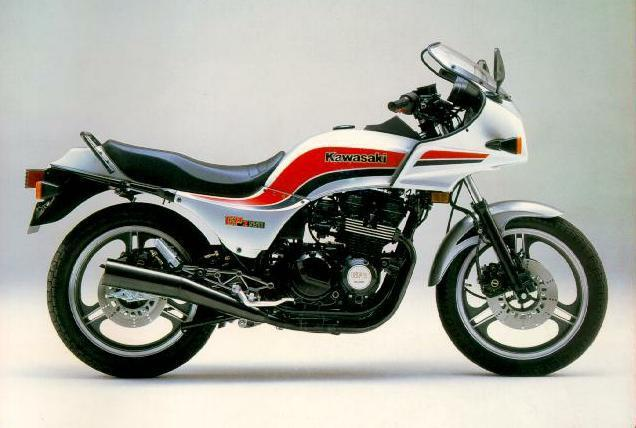Motorcycle: (13, 23, 619, 393)
